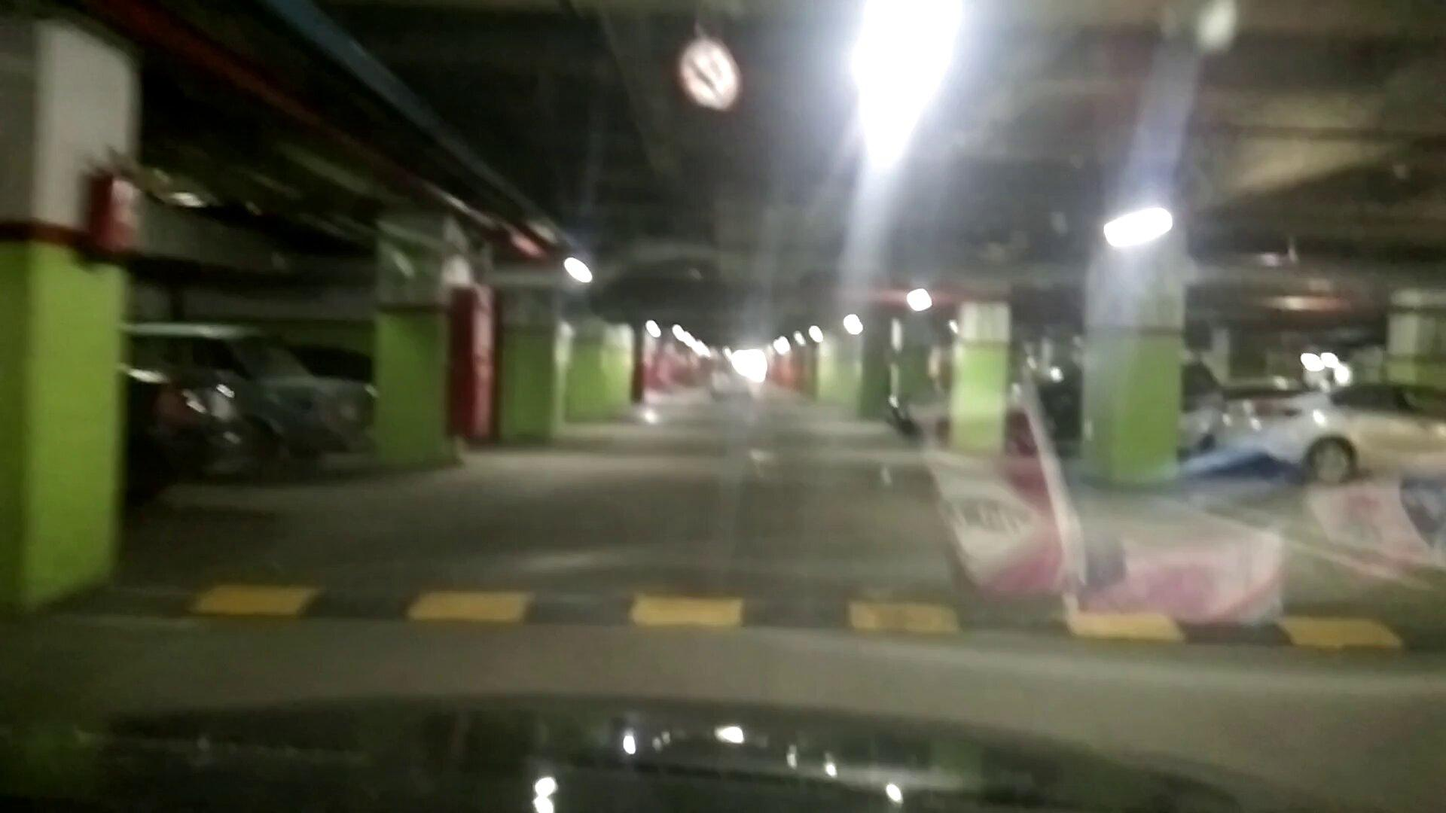Bump: (128, 566, 1446, 687)
